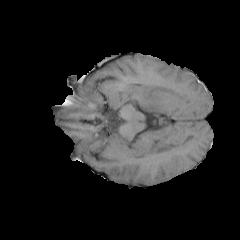glioma: (108, 79, 175, 110)
